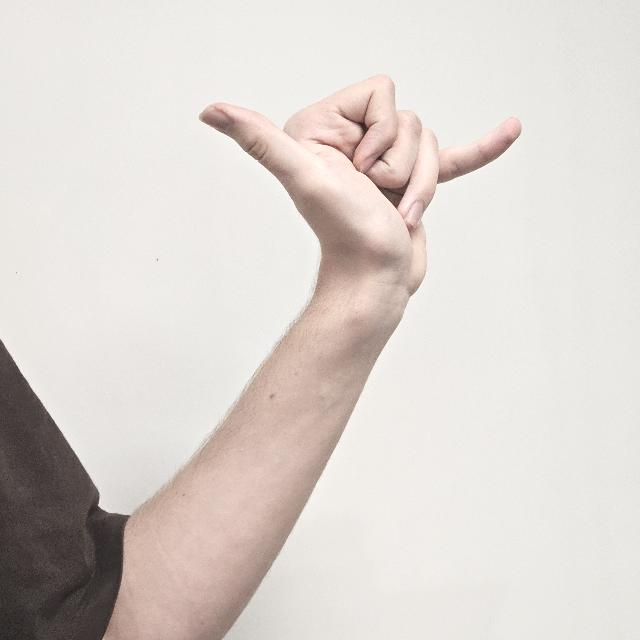Direita: (194, 69, 524, 304)
